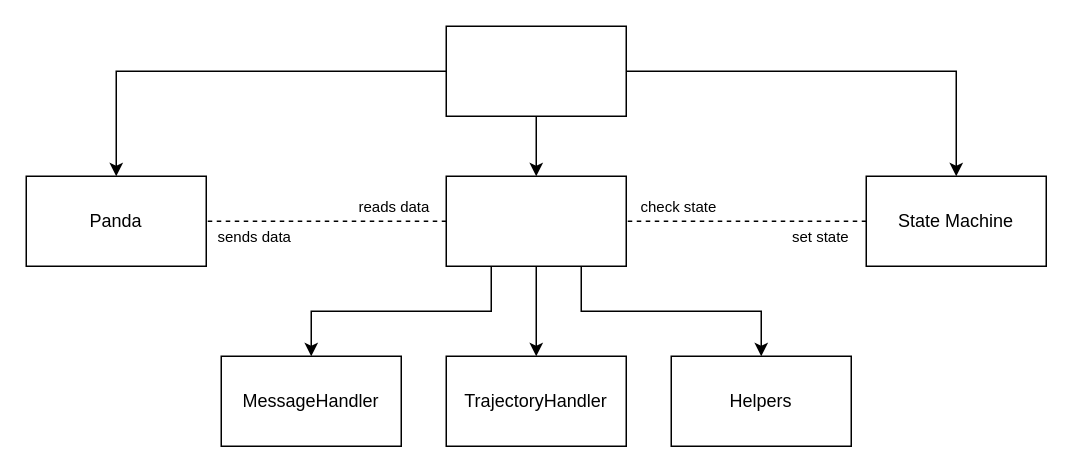
Some shapes in this 1073 by 473 pixel diagram are drawn without their labels. The shapes that lost their labels are listed below. From the top down, each one's box as (x1, y1, x2, y2) in pixels, then its label:
(445, 25, 626, 116): Insertion
(445, 175, 626, 266): Controller
